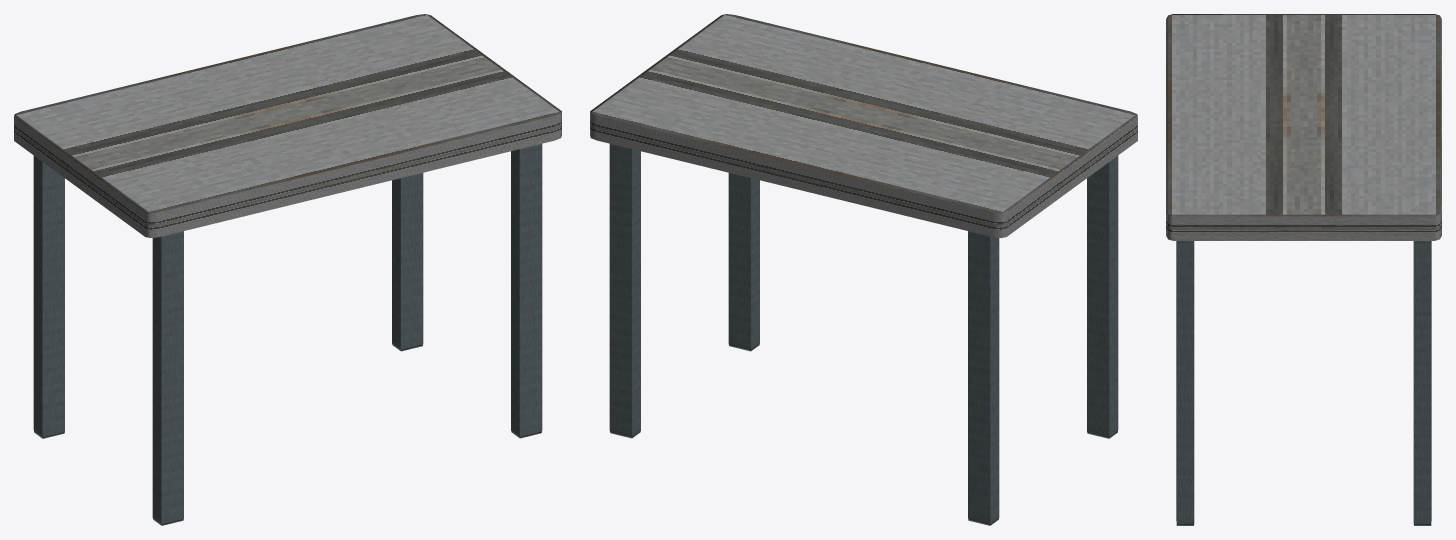
Rendered from drain-table.glb.
The picture shows the model from 3 angles, left to right: view 1: azimuth 30°, elevation 25°; view 2: azimuth 150°, elevation 25°; view 3: azimuth 270°, elevation 25°; orthographic projection.
Parts seen in each view (by area): view 1: top, leg (×4); view 2: top, leg (×4); view 3: top, leg (×2).
Boxes of the visible parts, x1,y1,x2,y2 form: top: (14, 14, 561, 237); leg (×4): (33, 144, 542, 525); top: (590, 14, 1137, 237); leg (×4): (609, 144, 1118, 525); top: (1166, 14, 1441, 240); leg (×2): (1176, 241, 1431, 525).
Bounding box in the file's own units: 1.2 × 0.88 × 0.69.
2 materials, 2 textured.
